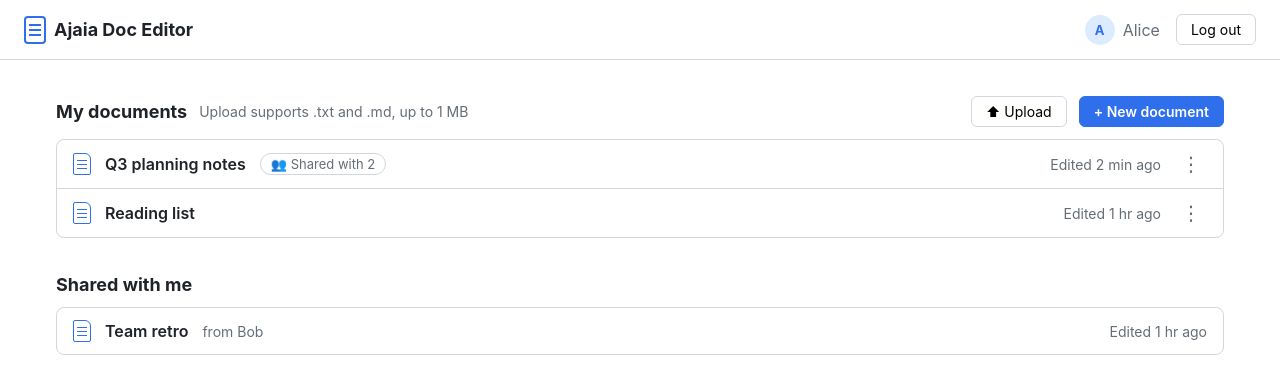
Scenario: document list › closes the row menu on a click outside it
Click the button "⋮" in the row of "Reading list": (1191, 213) [1175, 201, 1207, 225]
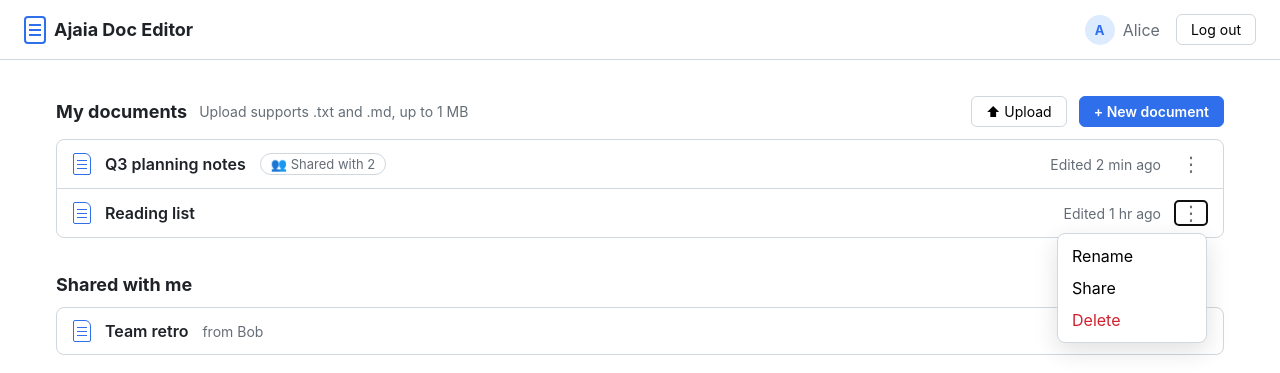
Click the heading "My documents": (122, 112) [56, 101, 187, 122]
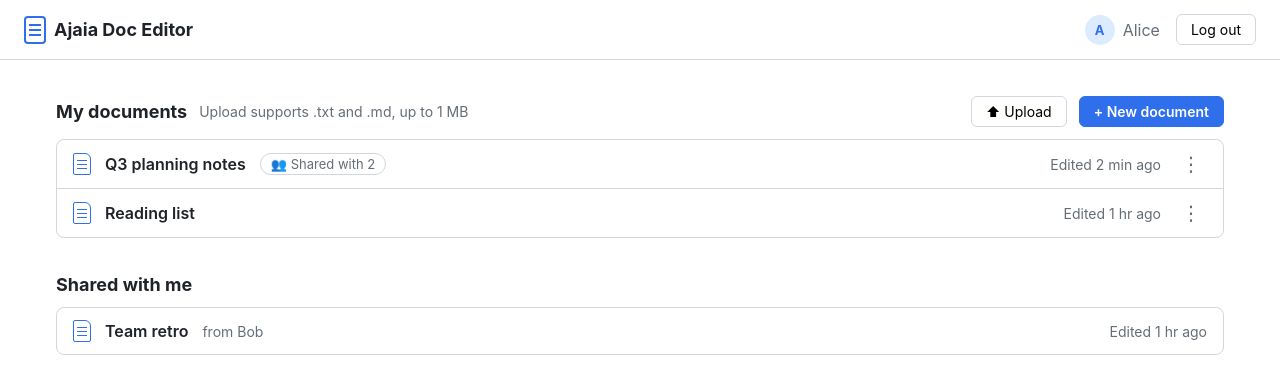
Now the menu is gone
